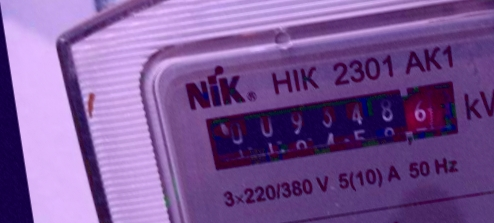0: (226, 116, 243, 144), (256, 112, 274, 137)
3: (316, 101, 333, 129)
4: (345, 97, 363, 126)
6: (408, 94, 429, 123)
8: (375, 93, 394, 123)
9: (285, 107, 304, 135)
screen: (193, 70, 470, 179)
